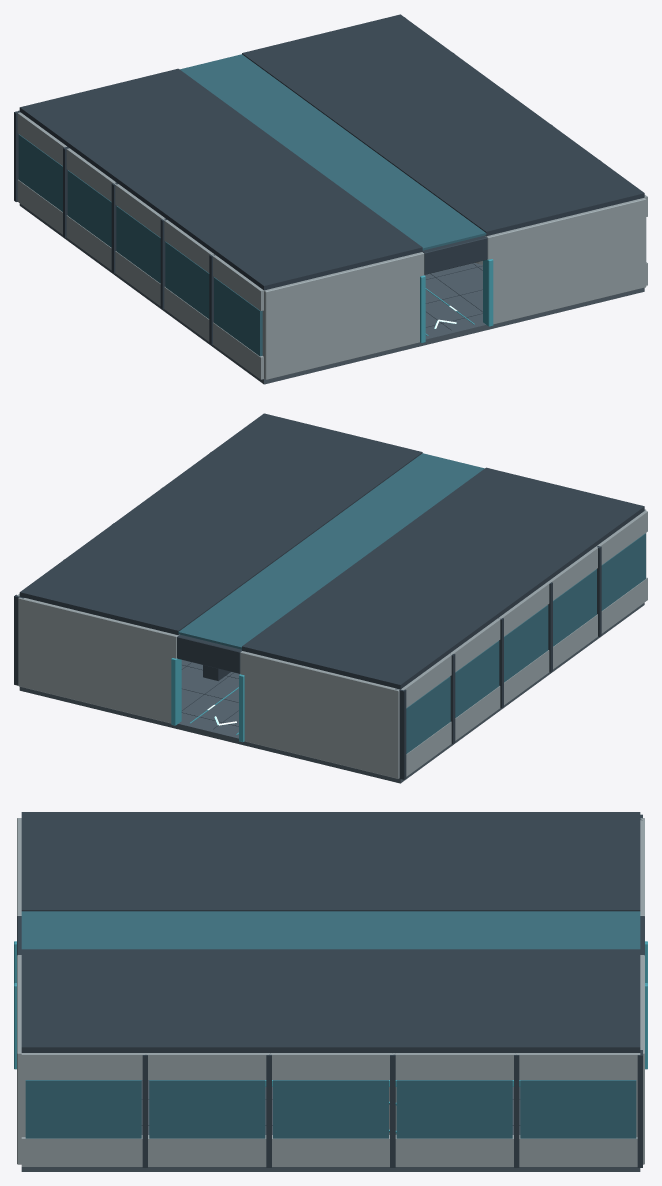
The model's file is ur_recycling.glb.
The picture shows the model from 3 angles, top to bottom: view 1: azimuth 30°, elevation 25°; view 2: azimuth 150°, elevation 25°; view 3: azimuth 270°, elevation 25°; orthographic projection. The views are drawn at different scales.
Visible parts, largest first — view 1: roof-col, front_wall-col, side_walls-col, deck-col; view 2: roof-col, back_wall-col, side_walls-col, deck-col; view 3: roof-col, side_walls-col, deck-col, front_wall-col, back_wall-col.
Part boxes in pixels (box(x1,y1,x2,y2)): roof-col: box(19, 14, 644, 290); front_wall-col: box(262, 198, 646, 379); side_walls-col: box(14, 17, 647, 379); deck-col: box(19, 203, 644, 384); roof-col: box(19, 413, 644, 689); back_wall-col: box(18, 597, 399, 778); side_walls-col: box(14, 452, 647, 779); deck-col: box(19, 603, 644, 783); roof-col: box(21, 812, 640, 1052); side_walls-col: box(21, 814, 642, 1167); deck-col: box(21, 1080, 640, 1171); front_wall-col: box(14, 818, 25, 1164); back_wall-col: box(636, 818, 647, 1164).
Bounding box in the file's own units: 36.9 × 8.9 × 41.
